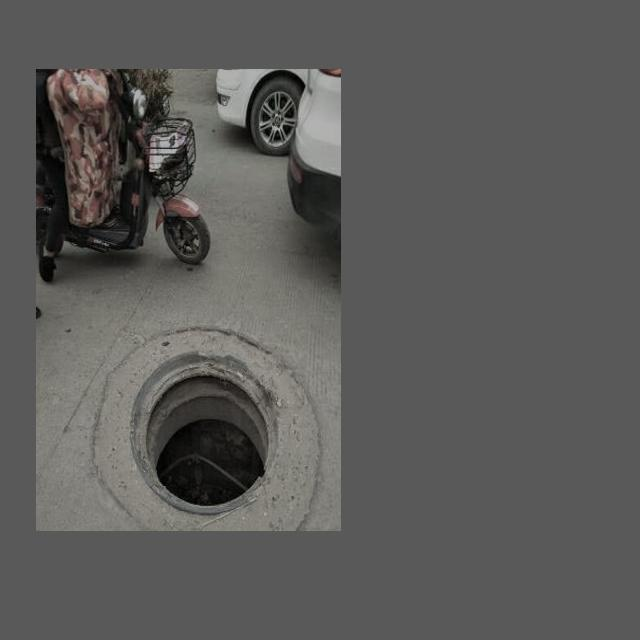lose: (130, 348, 280, 512)
